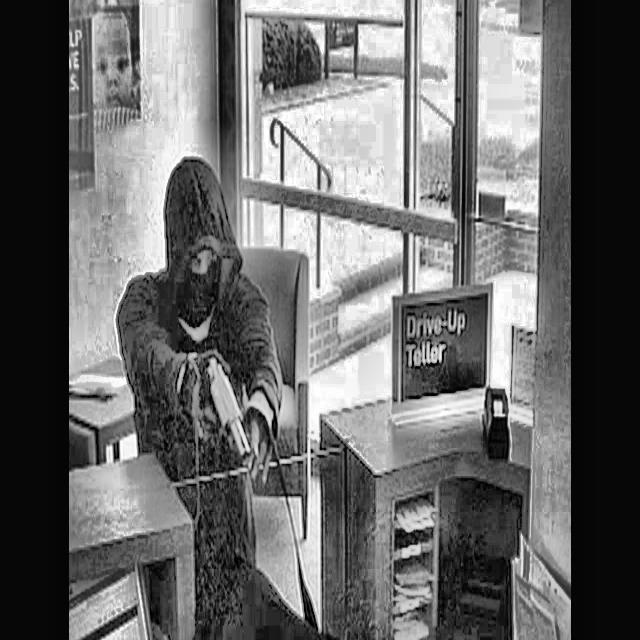robbery: (107, 151, 331, 639)
